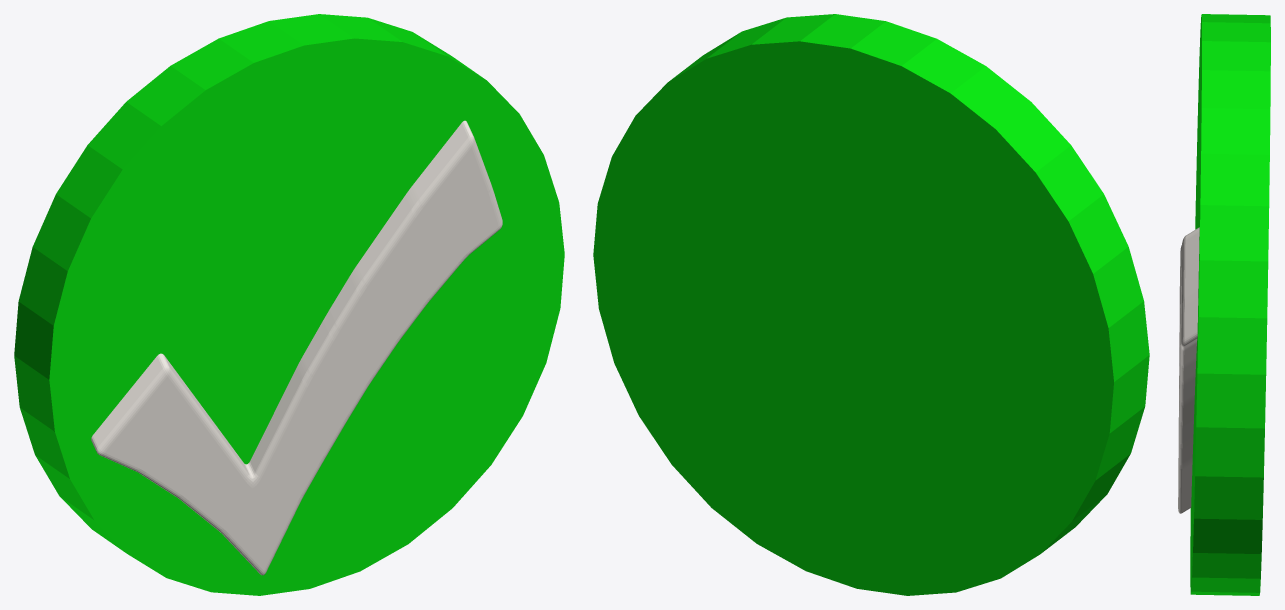
File: ViewedMark.fbx
3 views of the same model, side by side, from view 1: azimuth 30°, elevation 25°; view 2: azimuth 150°, elevation 25°; view 3: azimuth 270°, elevation 25° (orthographic). The views are drawn at different scales.
Parts seen in each view (by area): view 1: Cylinder.001, Cube; view 2: Cylinder.001; view 3: Cylinder.001, Cube.
Boxes of the visible parts, left/top/right/bottom form: Cylinder.001: left=14, top=14, right=564, bottom=595; Cube: left=91, top=120, right=502, bottom=575; Cylinder.001: left=593, top=14, right=1149, bottom=595; Cylinder.001: left=1190, top=14, right=1270, bottom=595; Cube: left=1178, top=227, right=1199, bottom=513.
Size of the model in its own units: 47.4 by 47.49 by 7.57.
